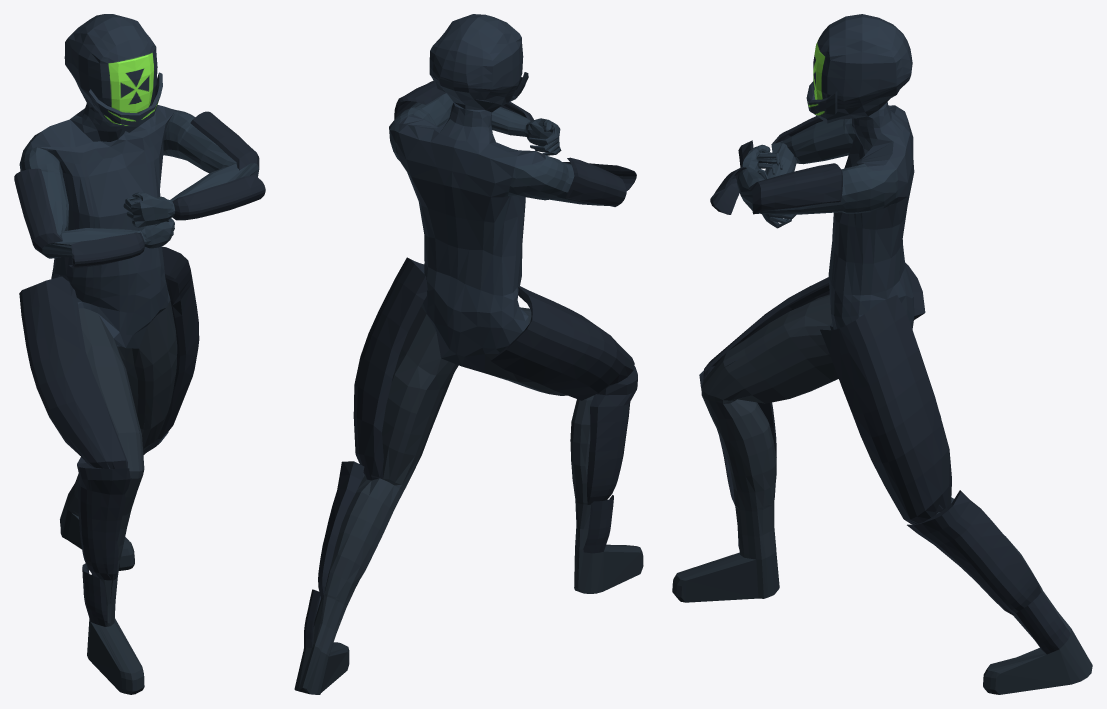
The model's file is Bastion_WL_000005.obj.
The picture shows the model from 3 angles, left to right: view 1: azimuth 30°, elevation 25°; view 2: azimuth 150°, elevation 25°; view 3: azimuth 270°, elevation 25°; orthographic projection. The views are drawn at different scales.
Parts seen in each view (by area): view 1: Cube.002; view 2: Cube.002; view 3: Cube.002.
Boxes of the visible parts, box(x1,y1,x2,y2) form: Cube.002: box(14, 14, 265, 694); Cube.002: box(294, 14, 643, 694); Cube.002: box(672, 14, 1092, 694).
Bounding box in the file's own units: 1.31 × 3.58 × 2.15.
